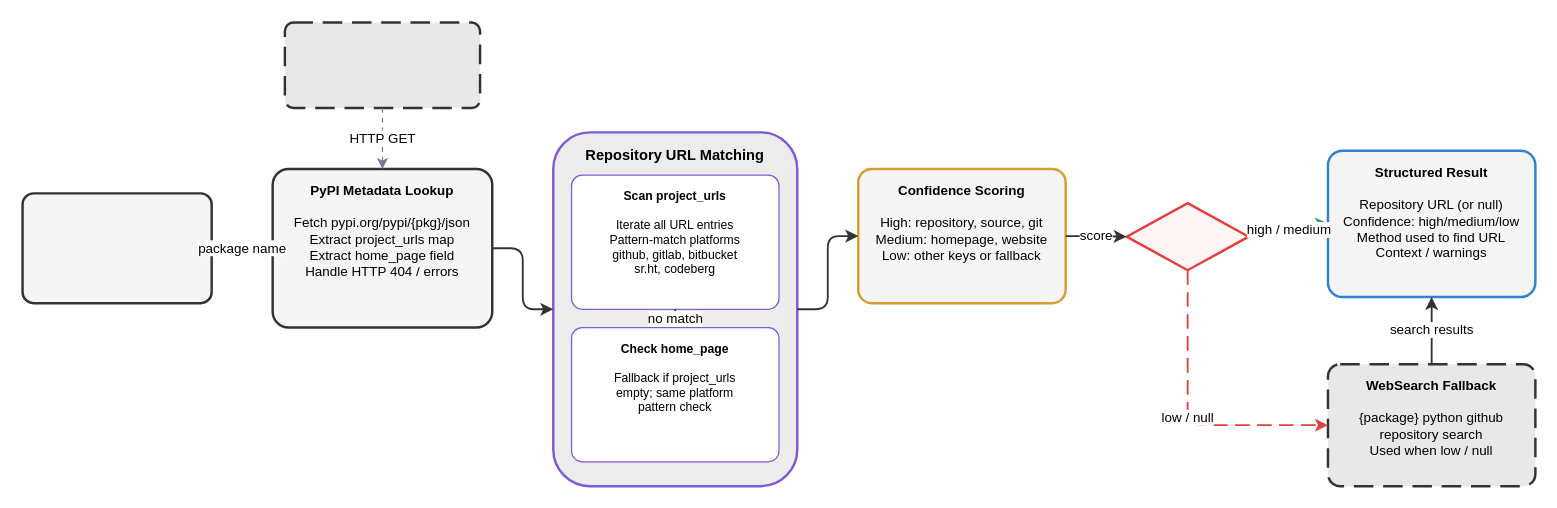
The diagram is 1557 pixels wide and 508 high, and some of its shapes have lost their labels. Here are the shapes that lost their labels. From the top down, the centre of each, then its label:
the point at 382,65: PyPI JSON API pypi.org/pypi/{pkg}/json
the point at 116,248: /python-packaging-source-finder package name
the point at 1187,236: Confidence?
